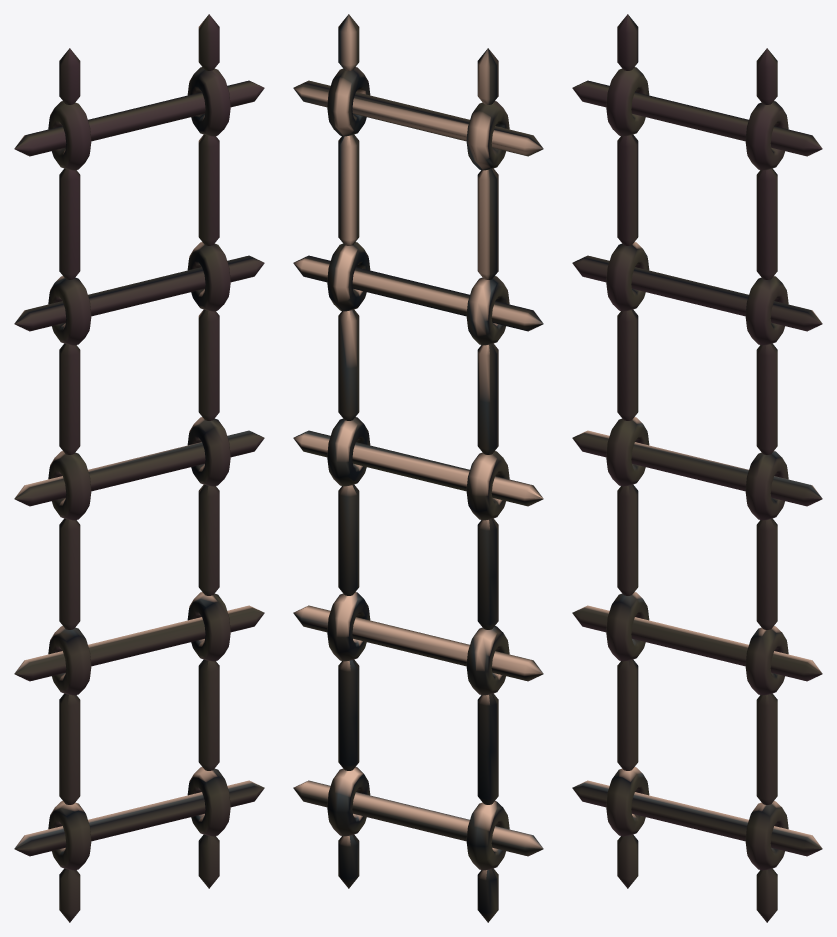
File: Ladder_01.fbx
The picture shows the model from 3 angles, left to right: view 1: azimuth 30°, elevation 25°; view 2: azimuth 150°, elevation 25°; view 3: azimuth 330°, elevation 25°; orthographic projection.
Visible parts, largest first — view 1: Ladder; view 2: Ladder; view 3: Ladder.
Boxes of the visible parts, bbox=[...] form: Ladder: bbox=[14, 14, 264, 922]; Ladder: bbox=[293, 14, 543, 922]; Ladder: bbox=[572, 14, 822, 922].
Size of the model in its own units: 60 by 200 by 11.62.
